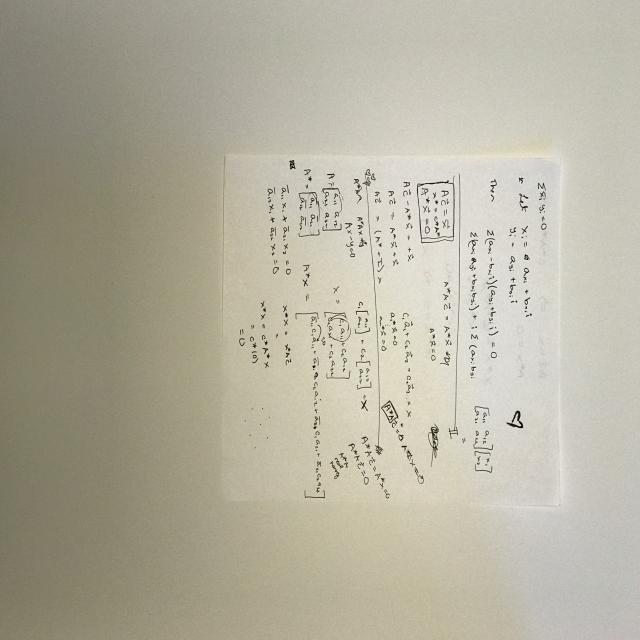paper: (220, 154, 563, 513)
